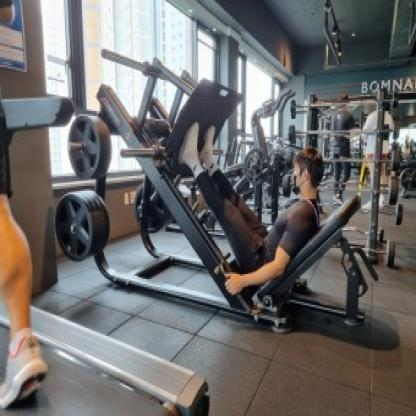leg press: (51, 55, 390, 363)
